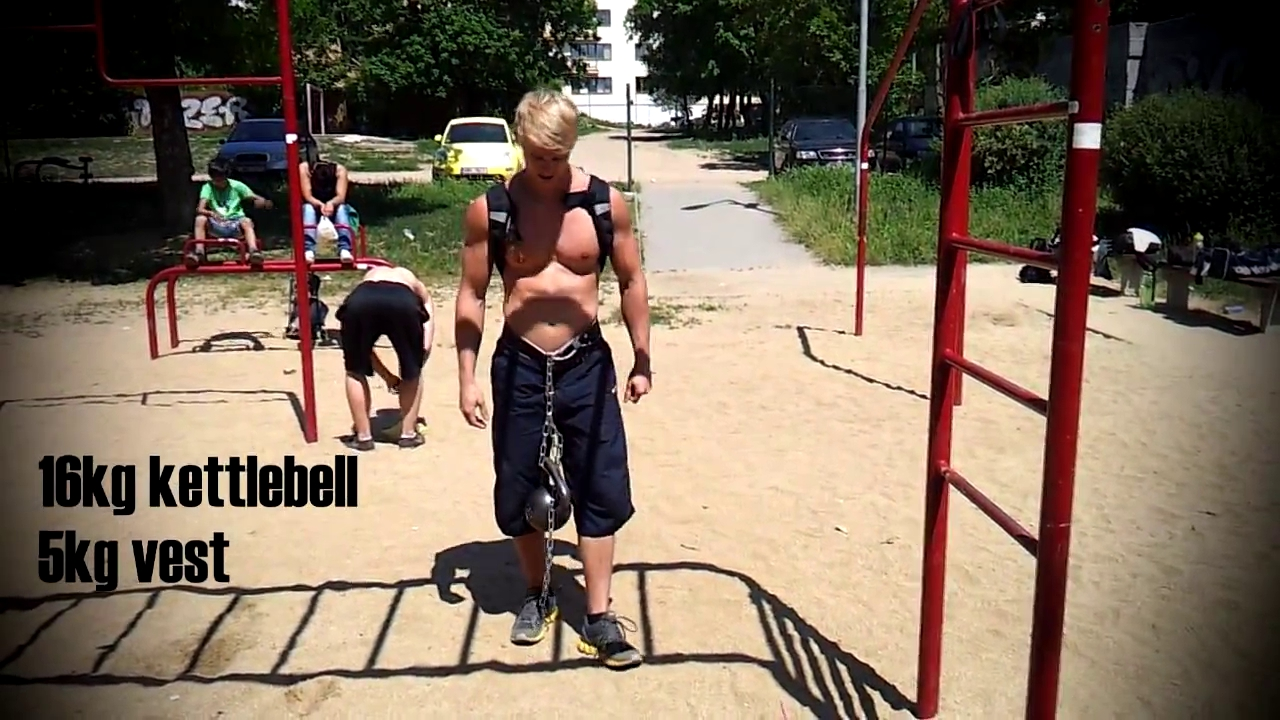person: (453, 88, 652, 671), (334, 267, 435, 452), (184, 158, 273, 265), (298, 160, 354, 262)
